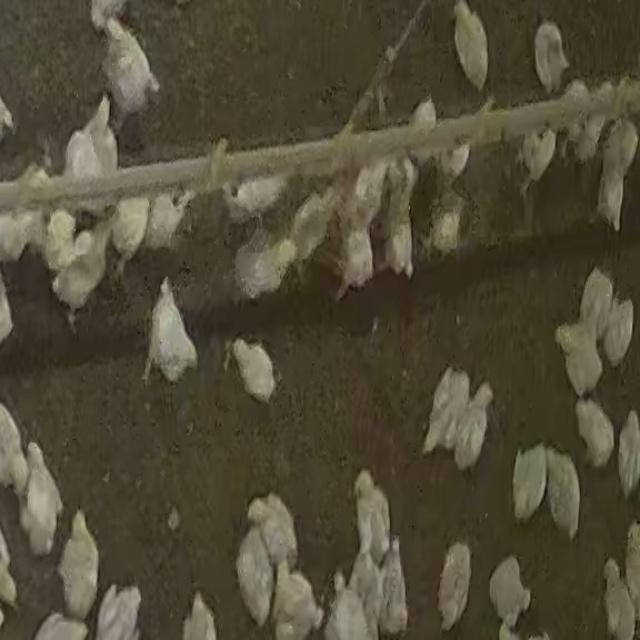chicken: (97, 10, 161, 126), (52, 216, 115, 323), (64, 98, 119, 194), (146, 278, 196, 382), (21, 444, 66, 558), (595, 118, 638, 234), (244, 492, 299, 572), (58, 511, 99, 617), (270, 557, 323, 637), (235, 522, 275, 626), (420, 371, 467, 459), (237, 231, 296, 298), (553, 318, 601, 399), (353, 469, 393, 564), (452, 1, 491, 92), (288, 192, 334, 269), (486, 553, 528, 634), (436, 540, 473, 631), (321, 577, 374, 640), (224, 171, 288, 223), (569, 84, 609, 164), (232, 337, 276, 409), (144, 190, 192, 255), (108, 196, 150, 269), (378, 535, 408, 637), (349, 158, 393, 227), (510, 440, 546, 524), (546, 451, 580, 537), (574, 397, 614, 470), (518, 126, 558, 199), (458, 385, 493, 467), (410, 99, 450, 170), (338, 223, 376, 295), (533, 18, 569, 93), (1, 403, 30, 496), (578, 268, 614, 342), (601, 560, 635, 638), (96, 583, 142, 639), (0, 205, 44, 263), (602, 297, 636, 370), (44, 208, 81, 275), (382, 214, 415, 279), (616, 412, 640, 496), (428, 205, 462, 257), (182, 592, 219, 639), (33, 614, 86, 640)
